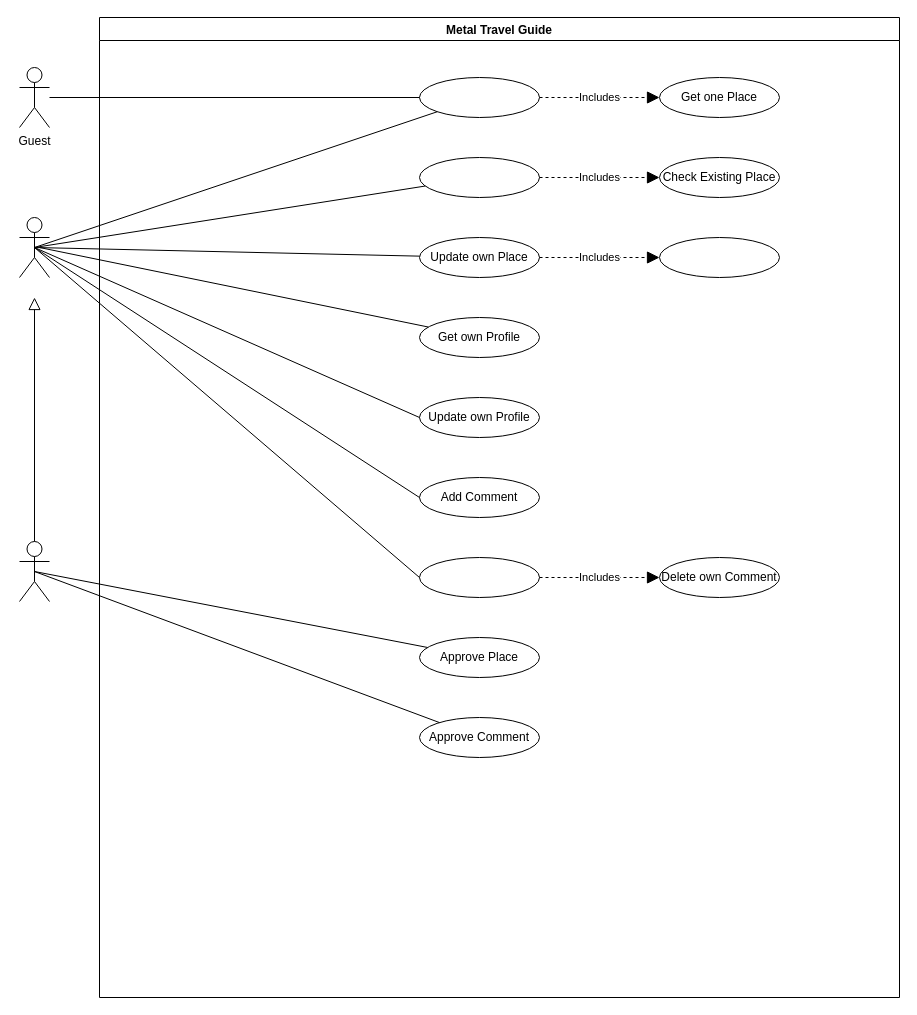
The diagram is 917 pixels wide and 1015 high, and some of its shapes have lost their labels. The shapes that lost their labels are listed below. From the top down, each one's box as (x1, y1, x2, y2) in pixels, then its label:
(418, 76, 540, 118): Get Places
(418, 156, 540, 198): Add Place
(18, 216, 50, 278): User
(658, 236, 780, 278): Delete own Place
(18, 540, 50, 602): Admin
(418, 556, 540, 598): Update own Comment
